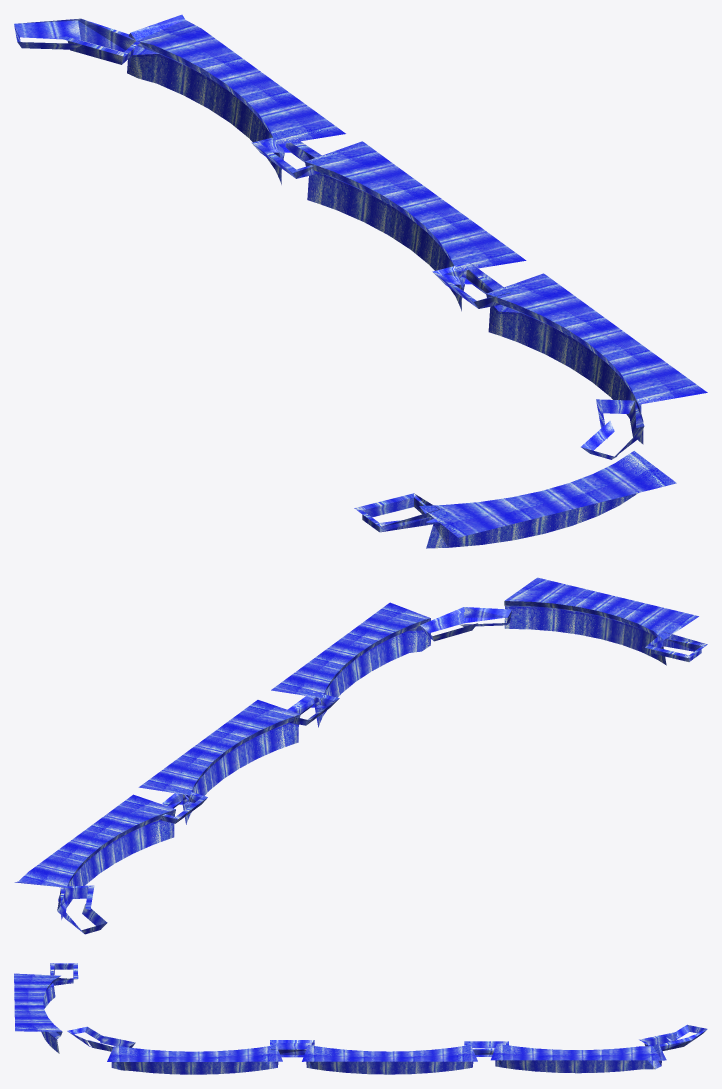
3 renders of one model, top to bottom at view 1: azimuth 30°, elevation 25°; view 2: azimuth 150°, elevation 25°; view 3: azimuth 270°, elevation 25°, orthographic. The views are drawn at different scales.
Size of the model in its own units: 0.5164 by 0.0587 by 1.51.
Materials: 1 (1 with a texture image).
